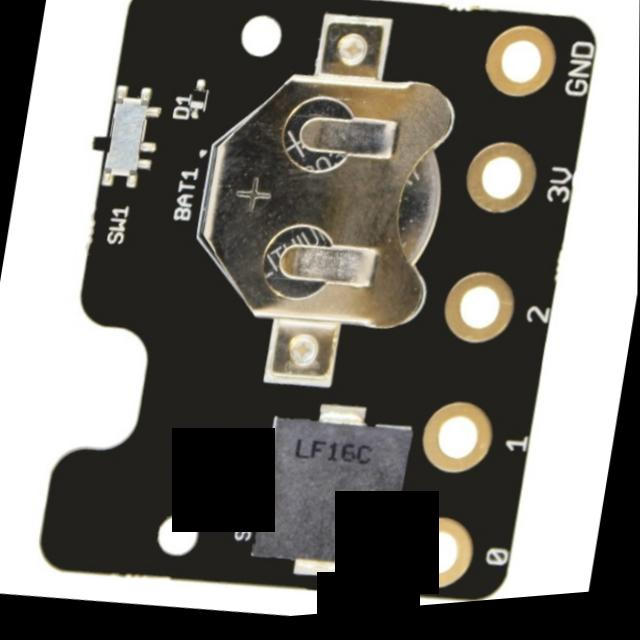2235: (75, 78, 168, 193)
battery: (166, 33, 482, 387)
buzzer: (238, 413, 418, 594)
diode -D1-: (181, 81, 217, 118)
